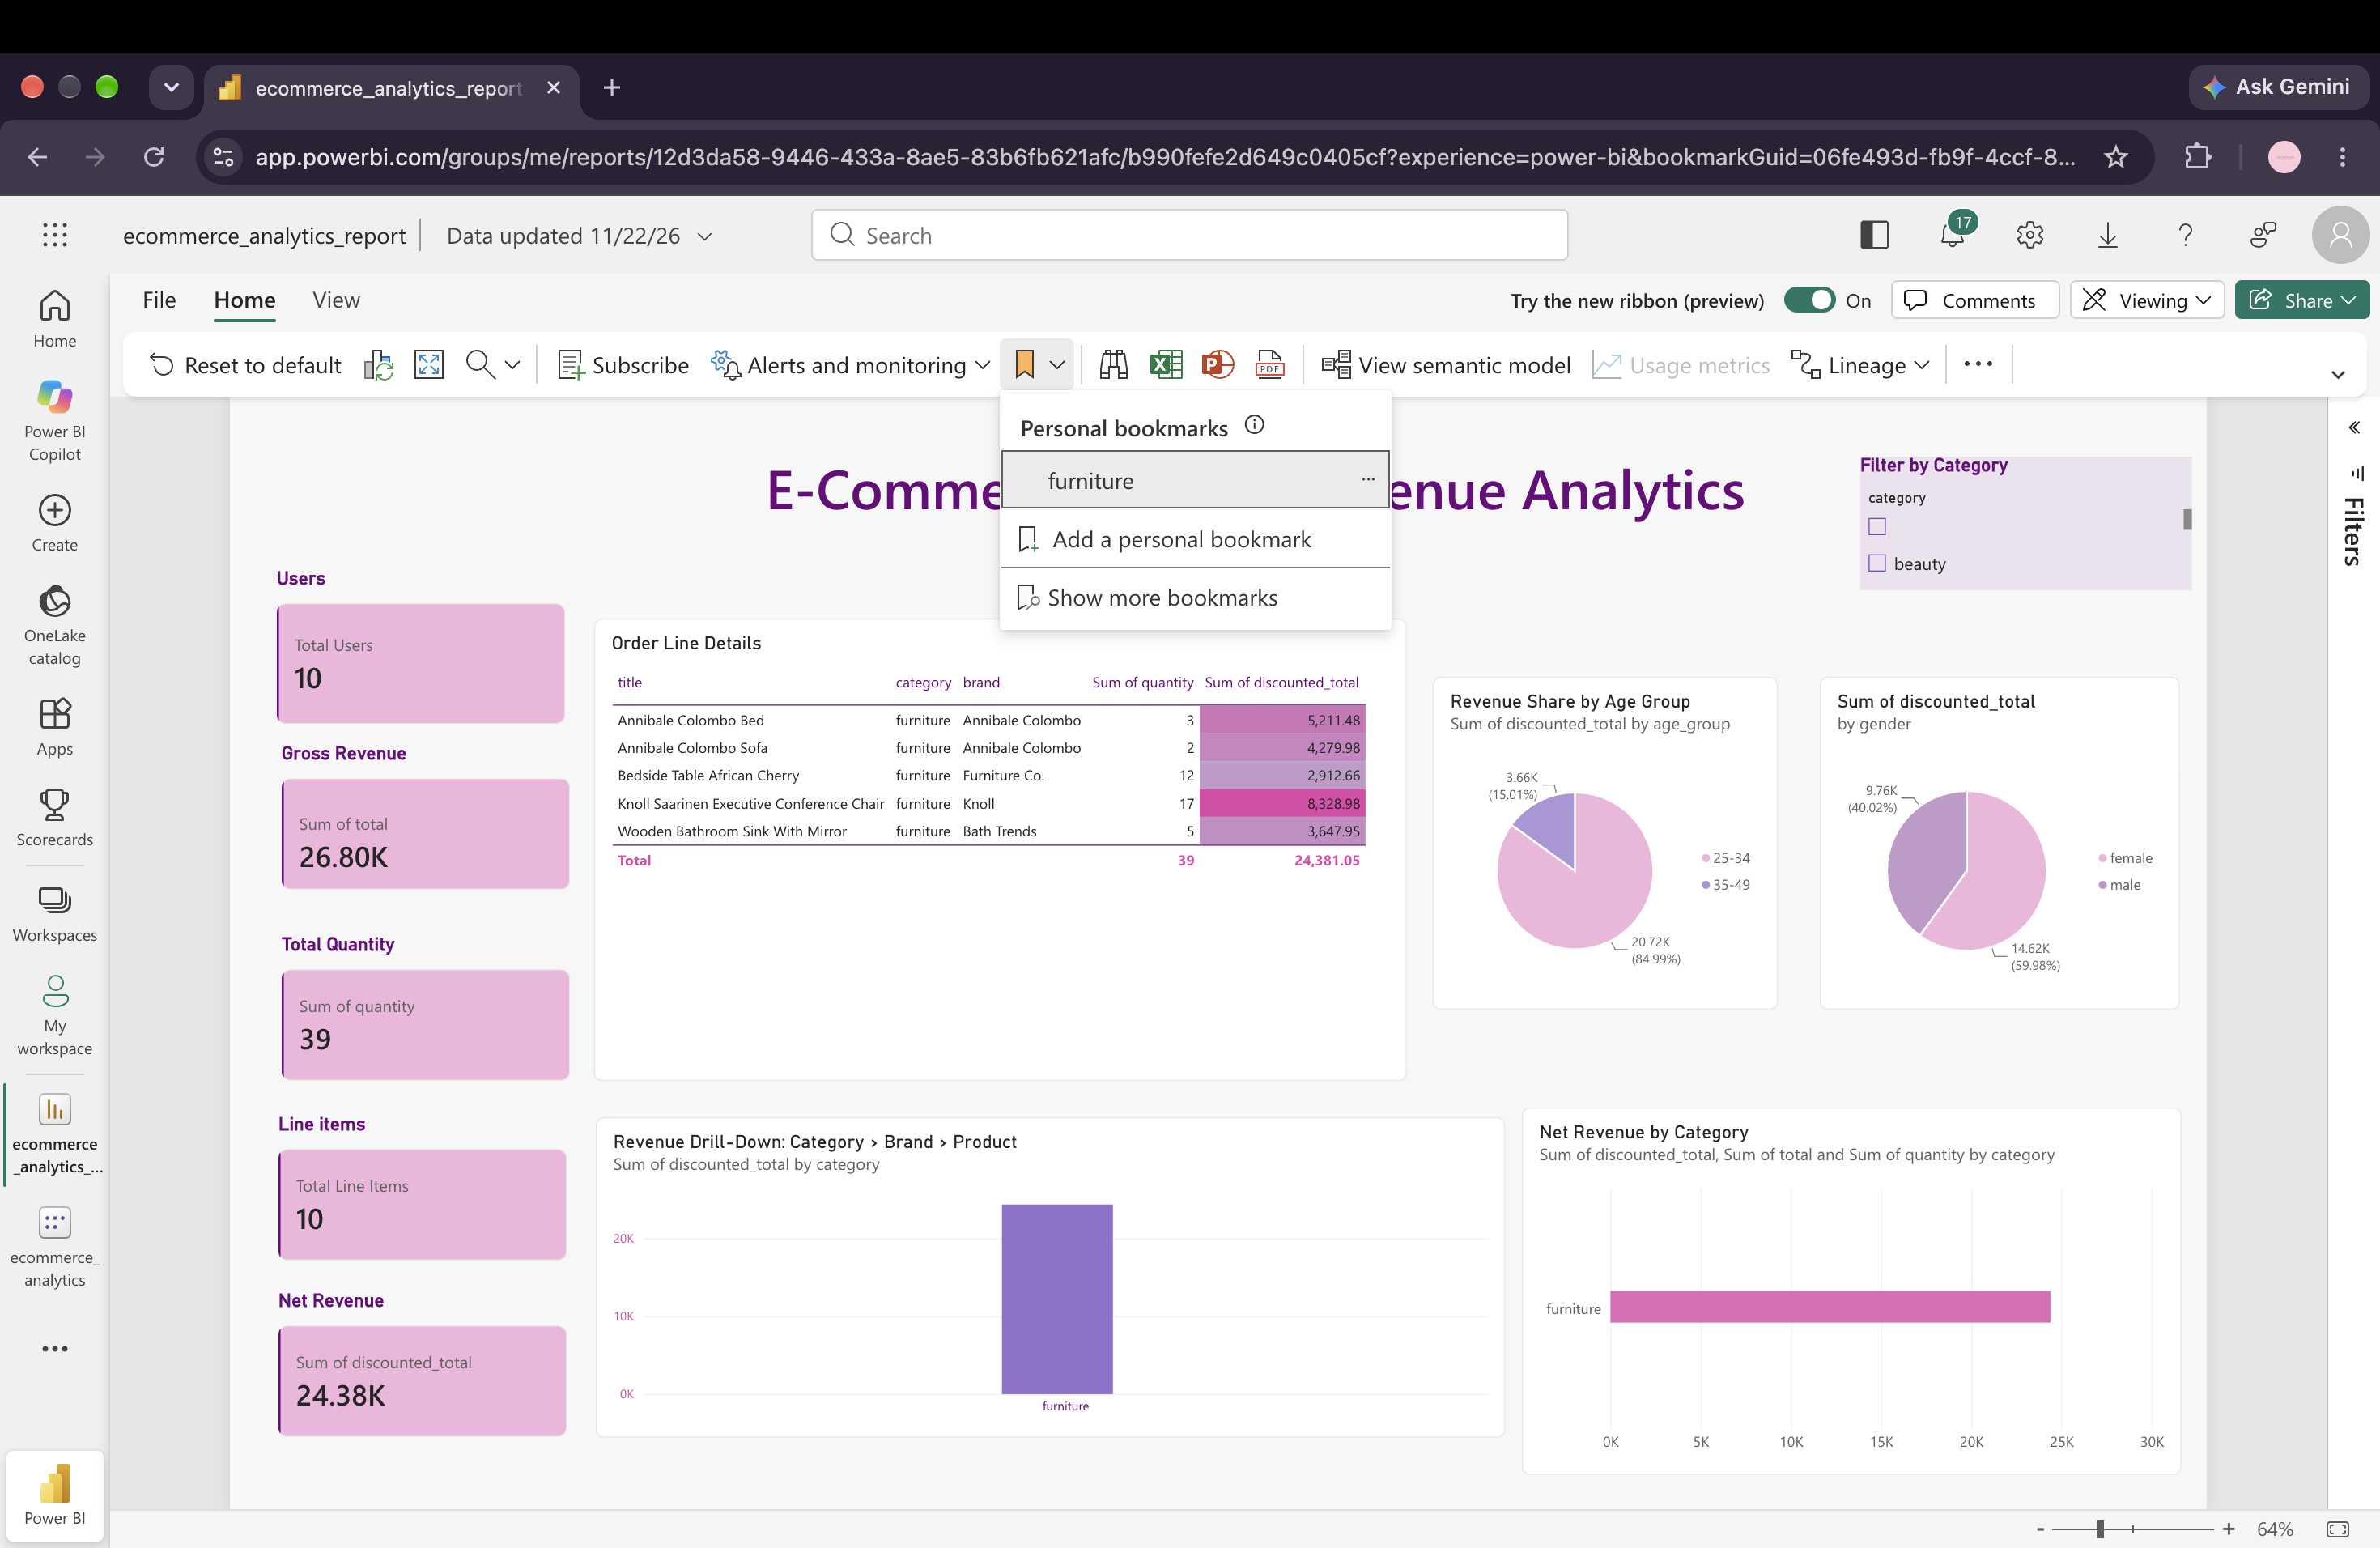

This screenshot's page, from the dashboard's own definition file:
{"tool":"powerbi","page":{"name":"Page 1","canvas":[1920,1080],"ordinal":0},"visuals":[{"type":"cardVisual","title":"Net Revenue","fields":{"Data":["Sum(powerbi_dashboard_data.discounted_total)"]},"box":[47.7,869.4,280.3,141.1],"z":0},{"type":"cardVisual","title":"Gross Revenue","fields":{"Data":["Sum(powerbi_dashboard_data.total)"]},"box":[50.4,337.5,280.3,141.1],"z":1000},{"type":"cardVisual","title":"Total Quantity","fields":{"Data":["Sum(powerbi_dashboard_data.quantity)"]},"box":[50.4,523.6,280.3,141.1],"z":2000},{"type":"cardVisual","title":"Line items","fields":{"Data":["powerbi_dashboard_data.Total Line Items"]},"box":[46.5,698.2,280.3,141.1],"z":3000},{"type":"slicer","title":"Filter by Category","fields":{"Values":["powerbi_dashboard_data.category"]},"box":[1582.5,58.5,322.2,129.7],"z":4000},{"type":"clusteredBarChart","title":"Net Revenue by Category","fields":{"Category":["powerbi_dashboard_data.category"],"Y":["Sum(powerbi_dashboard_data.discounted_total)"]},"box":[1254.9,689.4,640.6,356.5],"z":5000},{"type":"clusteredColumnChart","title":"Revenue Drill-Down: Category > Brand > Product","fields":{"Category":["powerbi_dashboard_data.category","powerbi_dashboard_data.brand","powerbi_dashboard_data.title"],"Y":["Sum(powerbi_dashboard_data.discounted_total)"]},"box":[354.6,699.7,882.8,310.8],"z":6000},{"type":"pieChart","title":"Revenue Share by Age Group","fields":{"Category":["powerbi_dashboard_data.age_group"],"Y":["Sum(powerbi_dashboard_data.discounted_total)"]},"box":[1167.5,271.9,335,322.8],"z":7000},{"type":"tableEx","title":"Order Line Details","fields":{"Values":["powerbi_dashboard_data.title","powerbi_dashboard_data.category","powerbi_dashboard_data.brand","Sum(powerbi_dashboard_data.quantity)","Sum(powerbi_dashboard_data.discounted_total)"]},"box":[354.4,216,788.9,449.1],"z":8000},{"type":"textbox","box":[440.4,51.2,1105.6,144.4],"z":9000},{"type":"cardVisual","title":"Users","fields":{"Data":["powerbi_dashboard_data.Total Users"]},"box":[46.1,167.5,280,150],"z":10000},{"type":"pieChart","fields":{"Category":["powerbi_dashboard_data.gender"],"Y":["Sum(powerbi_dashboard_data.discounted_total)"]},"box":[1543.8,271.9,349.5,322.8],"z":11000}]}

Visuals, with their boxes on the page's 1920x1080 design canvas (x1, y1, x2, y2). These are canvas units, not pixel positions in the 2380x1548 screenshot, which may show the page scaled, cropped or inside an application window:
"Net Revenue" cardVisual: Rect(48, 869, 328, 1010)
"Gross Revenue" cardVisual: Rect(50, 338, 331, 479)
"Total Quantity" cardVisual: Rect(50, 524, 331, 665)
"Line items" cardVisual: Rect(46, 698, 327, 839)
"Filter by Category" slicer: Rect(1582, 58, 1905, 188)
"Net Revenue by Category" clusteredBarChart: Rect(1255, 689, 1896, 1046)
"Revenue Drill-Down: Category > Brand > Product" clusteredColumnChart: Rect(355, 700, 1237, 1010)
"Revenue Share by Age Group" pieChart: Rect(1168, 272, 1502, 595)
"Order Line Details" tableEx: Rect(354, 216, 1143, 665)
textbox: Rect(440, 51, 1546, 196)
"Users" cardVisual: Rect(46, 168, 326, 318)
pieChart - powerbi_dashboard_data.gender x Sum(powerbi_dashboard_data.discounted_total): Rect(1544, 272, 1893, 595)
